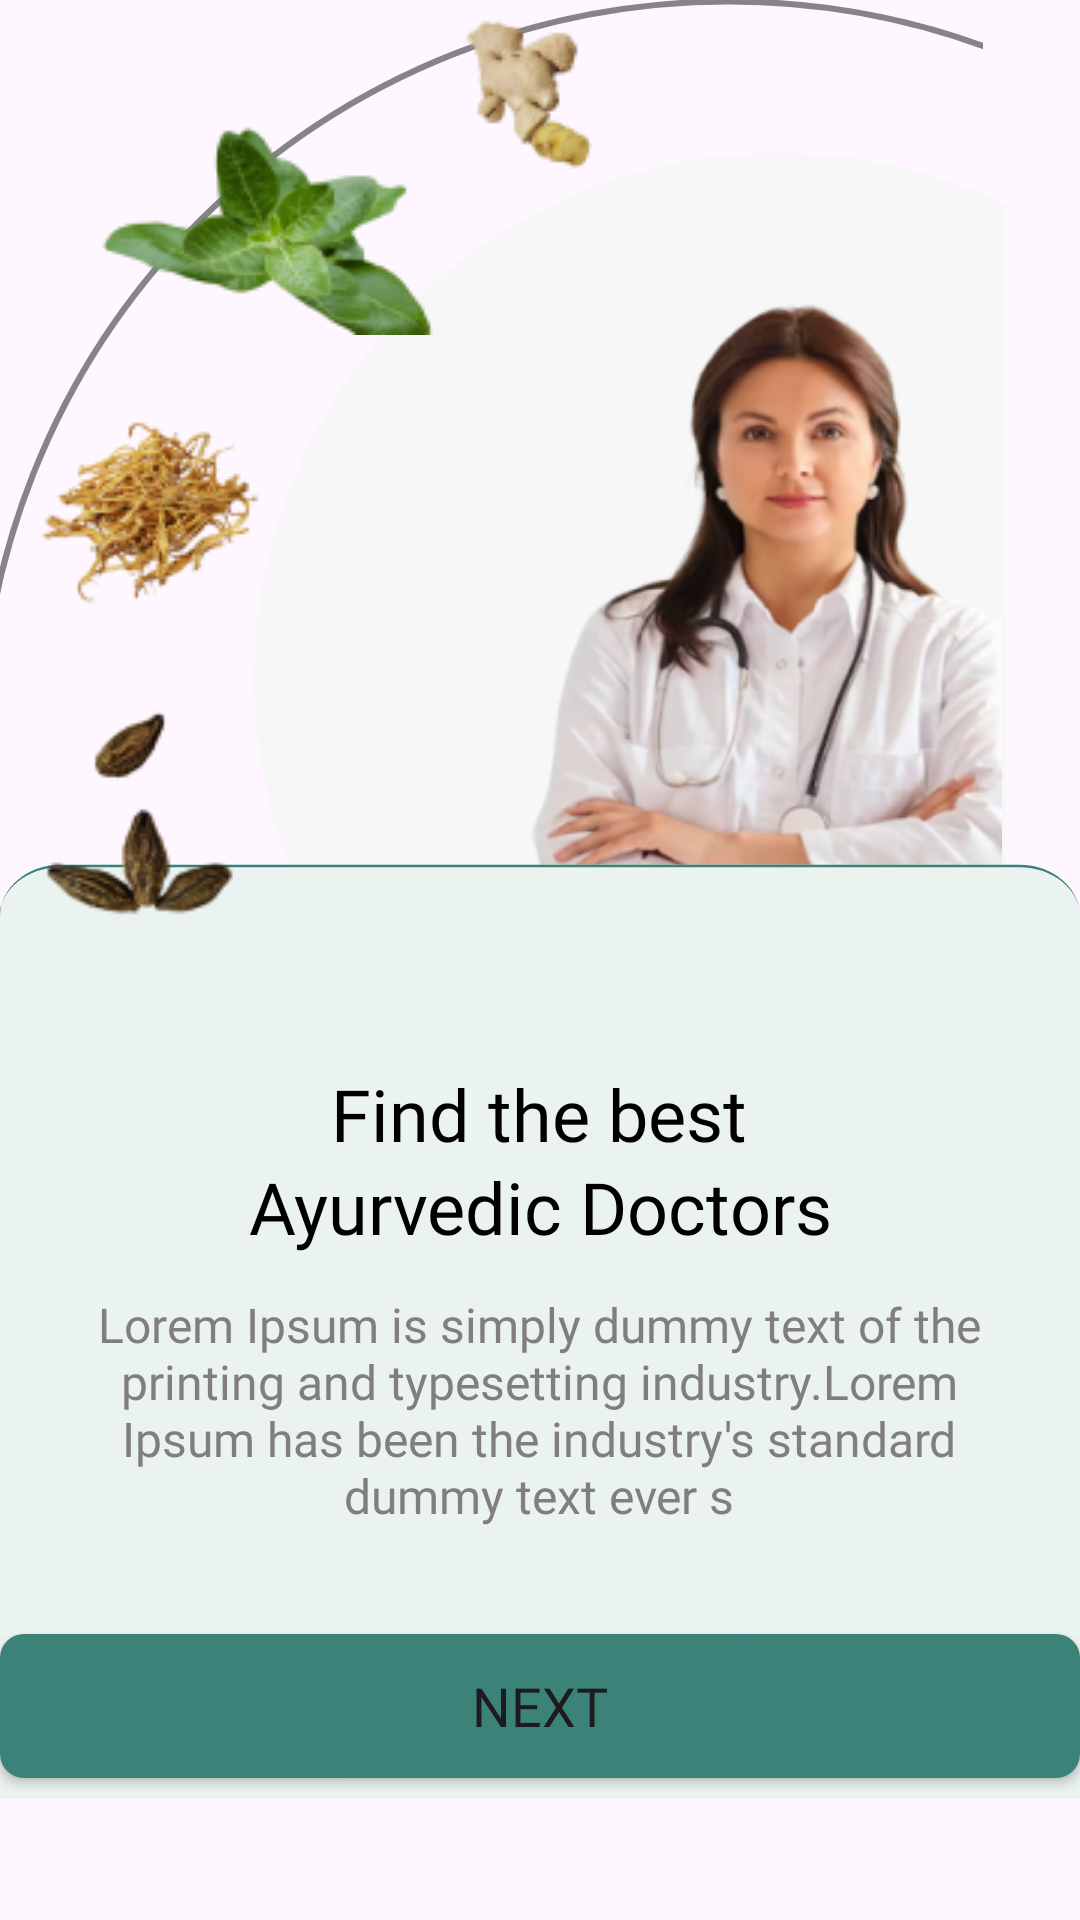

Point at icon controls on the screen. Image size 1080 x 1920, points as point (x, y).
ginger: point (538, 87)
leaf: point (267, 222)
